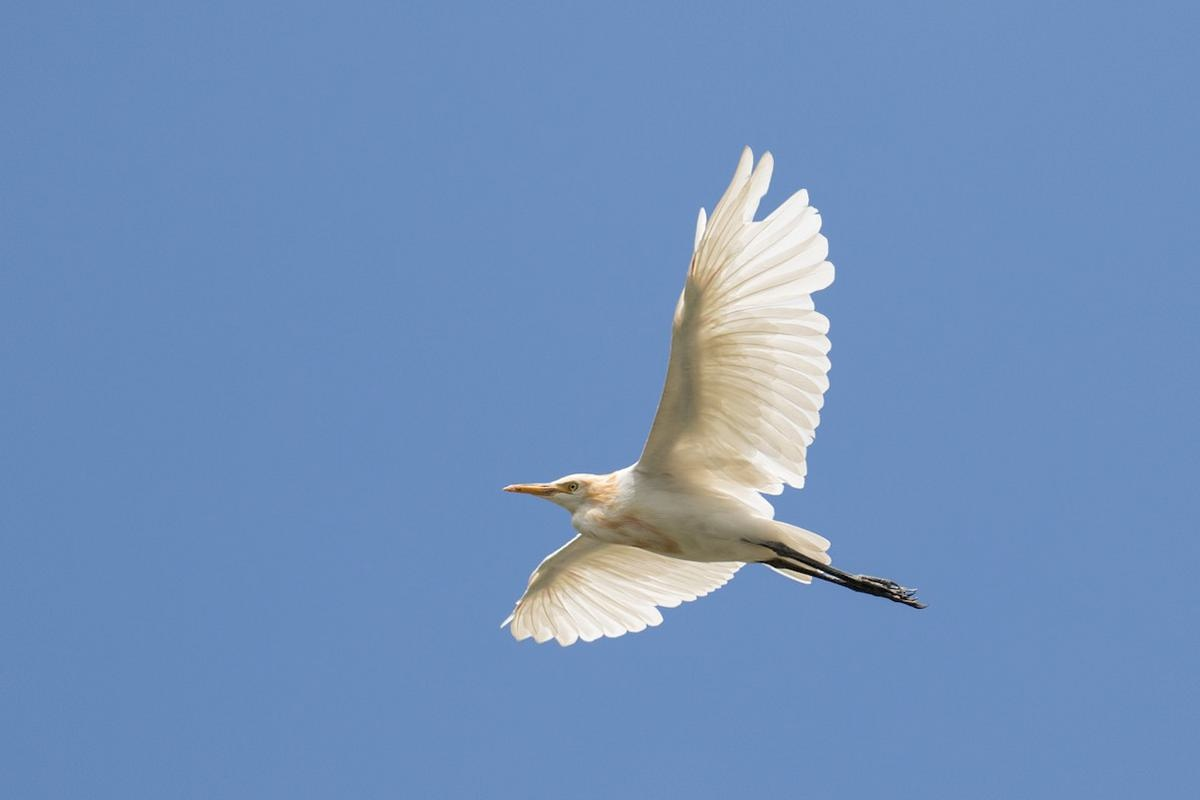egret: (495, 137, 952, 665)
